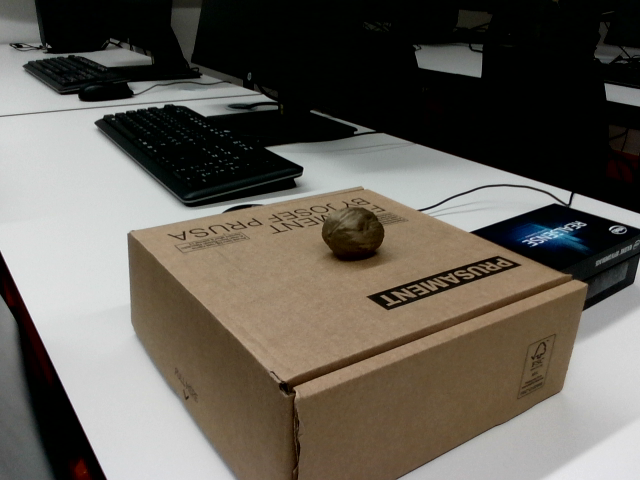walnut: (320, 205, 385, 260)
